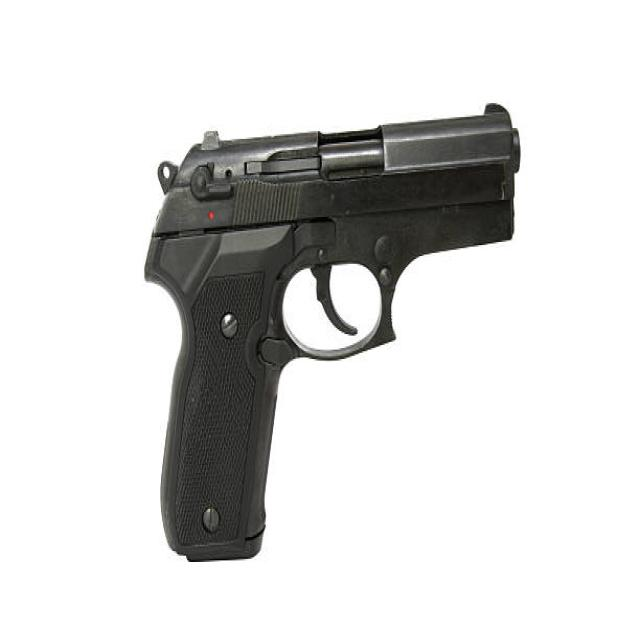pistol: (132, 96, 529, 569)
